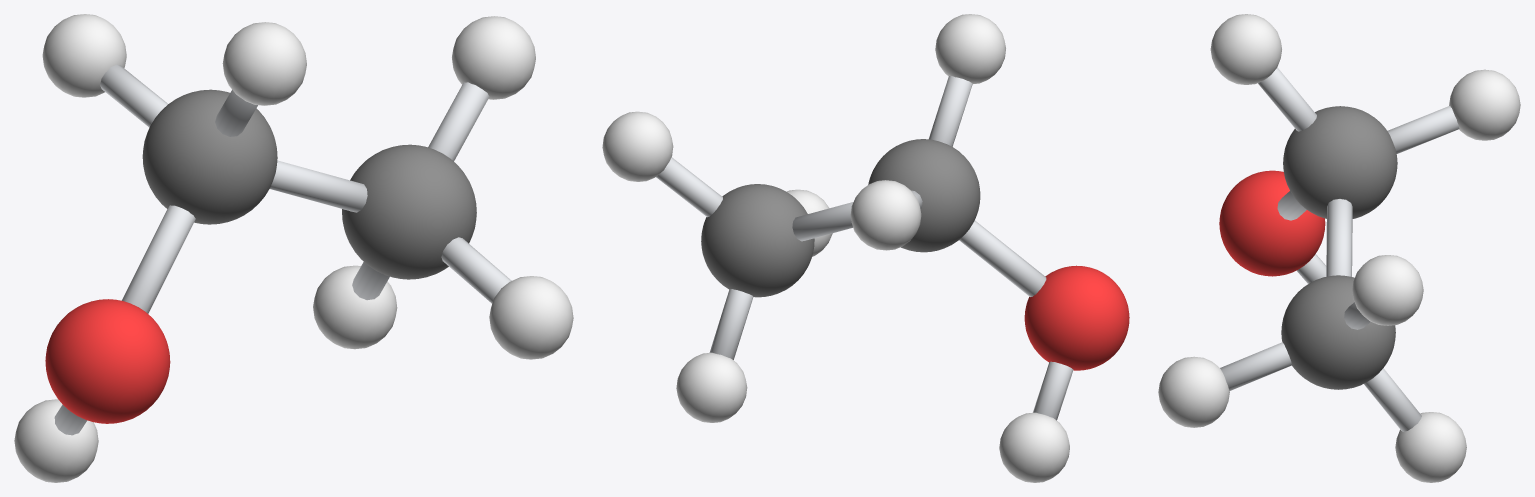
The model's file is molecule-ethanol.glb.
3 renders of one model, left to right at view 1: azimuth 30°, elevation 25°; view 2: azimuth 150°, elevation 25°; view 3: azimuth 270°, elevation 25°, orthographic. The views are drawn at different scales.
Parts seen in each view (by area): view 1: bonds, carbon_2, carbon_1, oxygen_1, hydrogen_2, hydrogen_4, hydrogen_3, hydrogen_1, hydrogen_5, hydrogen_6; view 2: bonds, carbon_2, oxygen_1, carbon_1, hydrogen_1, hydrogen_3, hydrogen_6, hydrogen_5, hydrogen_2, hydrogen_4; view 3: bonds, carbon_1, carbon_2, oxygen_1, hydrogen_2, hydrogen_3, hydrogen_4, hydrogen_1, hydrogen_5.
Part boxes in pixels (x1,y1,x2,y2): bonds: [54, 64, 511, 435]; carbon_2: [342, 144, 476, 279]; carbon_1: [142, 89, 277, 224]; oxygen_1: [45, 299, 170, 423]; hydrogen_2: [222, 22, 306, 105]; hydrogen_4: [489, 276, 573, 359]; hydrogen_3: [452, 16, 535, 99]; hydrogen_1: [42, 14, 126, 97]; hydrogen_5: [313, 265, 397, 349]; hydrogen_6: [14, 399, 98, 482]; bonds: [656, 76, 1073, 420]; carbon_2: [701, 184, 814, 297]; oxygen_1: [1024, 265, 1129, 370]; carbon_1: [868, 139, 980, 252]; hydrogen_1: [850, 180, 921, 250]; hydrogen_3: [602, 111, 673, 181]; hydrogen_6: [999, 412, 1069, 482]; hydrogen_5: [676, 352, 747, 422]; hydrogen_2: [935, 14, 1005, 83]; hydrogen_4: [787, 189, 832, 256]; bonds: [1220, 67, 1459, 431]; carbon_1: [1283, 106, 1397, 218]; carbon_2: [1281, 275, 1395, 389]; oxygen_1: [1219, 170, 1325, 276]; hydrogen_2: [1210, 14, 1281, 84]; hydrogen_3: [1352, 255, 1423, 325]; hydrogen_4: [1158, 356, 1229, 427]; hydrogen_1: [1449, 69, 1520, 140]; hydrogen_5: [1395, 412, 1466, 482].
Bounding box in the file's own units: 0.2097 × 0.1719 × 0.1423.
